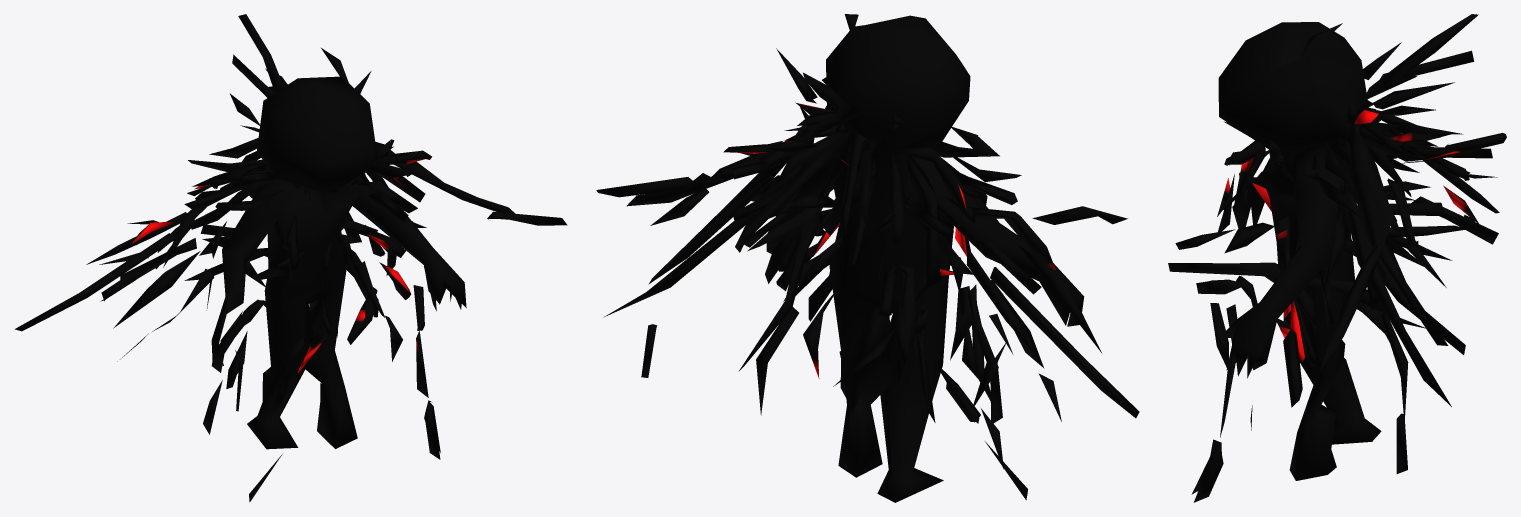
The model's file is rad.glb.
3 renders of one model, left to right at view 1: azimuth 30°, elevation 25°; view 2: azimuth 150°, elevation 25°; view 3: azimuth 270°, elevation 25°, orthographic. The views are drawn at different scales.
Parts seen in each view (by area): view 1: Mesh1; view 2: Mesh1; view 3: Mesh1.
Boxes of the visible parts, x1,y1,x2,y2 form: Mesh1: (15, 14, 567, 502); Mesh1: (596, 14, 1139, 502); Mesh1: (1168, 14, 1506, 502).
Bounding box in the file's own units: 6.64 × 5.11 × 3.33.
Materials: 1 (1 with a texture image).
